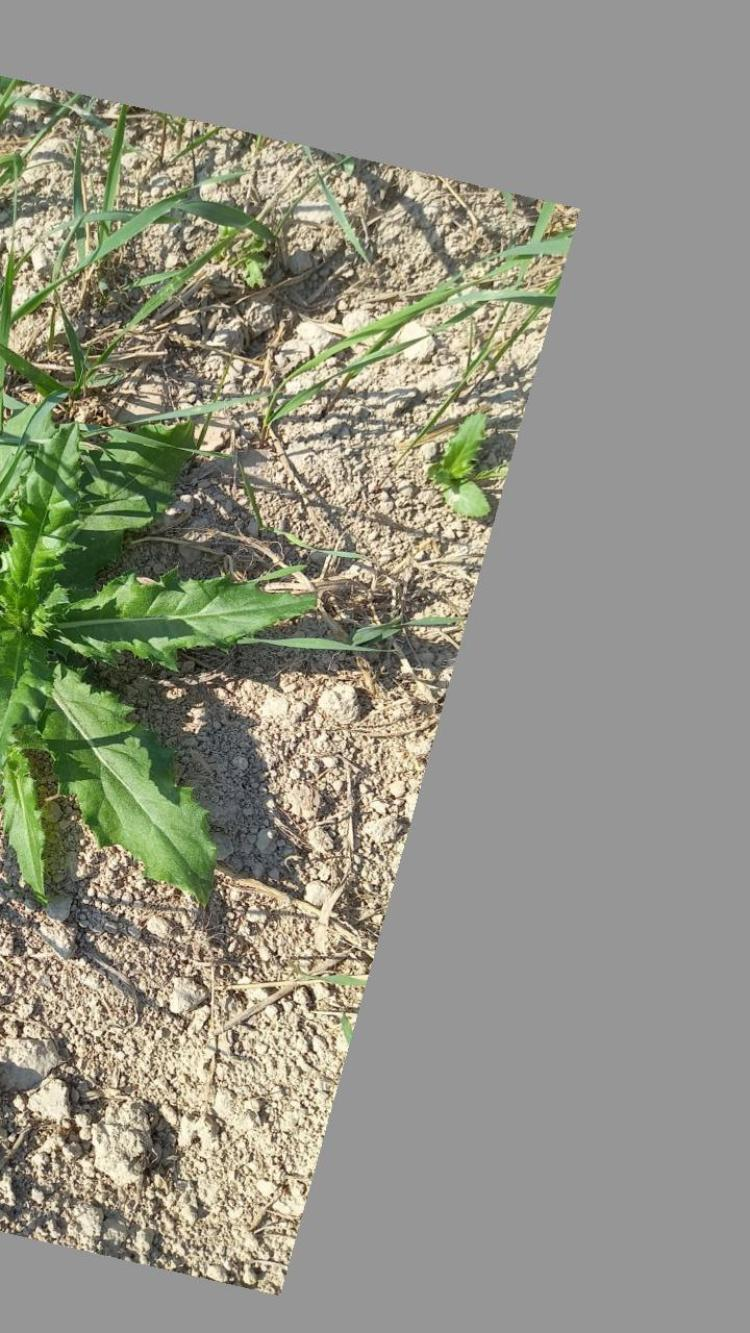osot: (0, 383, 329, 921)
